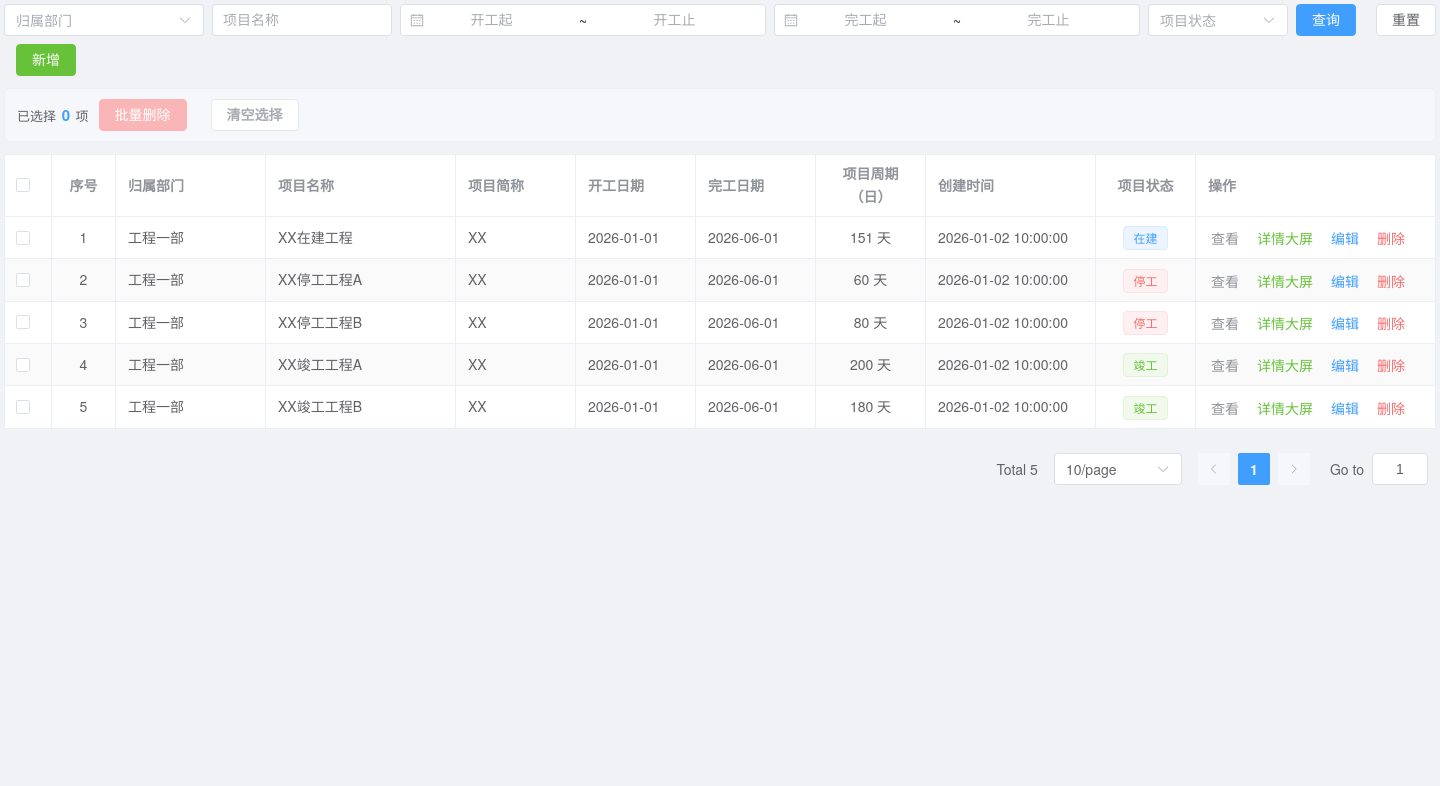
Test: ProjectListView › 点击新增打开弹窗并展示坐标与只读工期字段
The image size is (1440, 786).
Click the button "新增" at (46, 60), box x1=16 y1=44 x2=76 y2=76
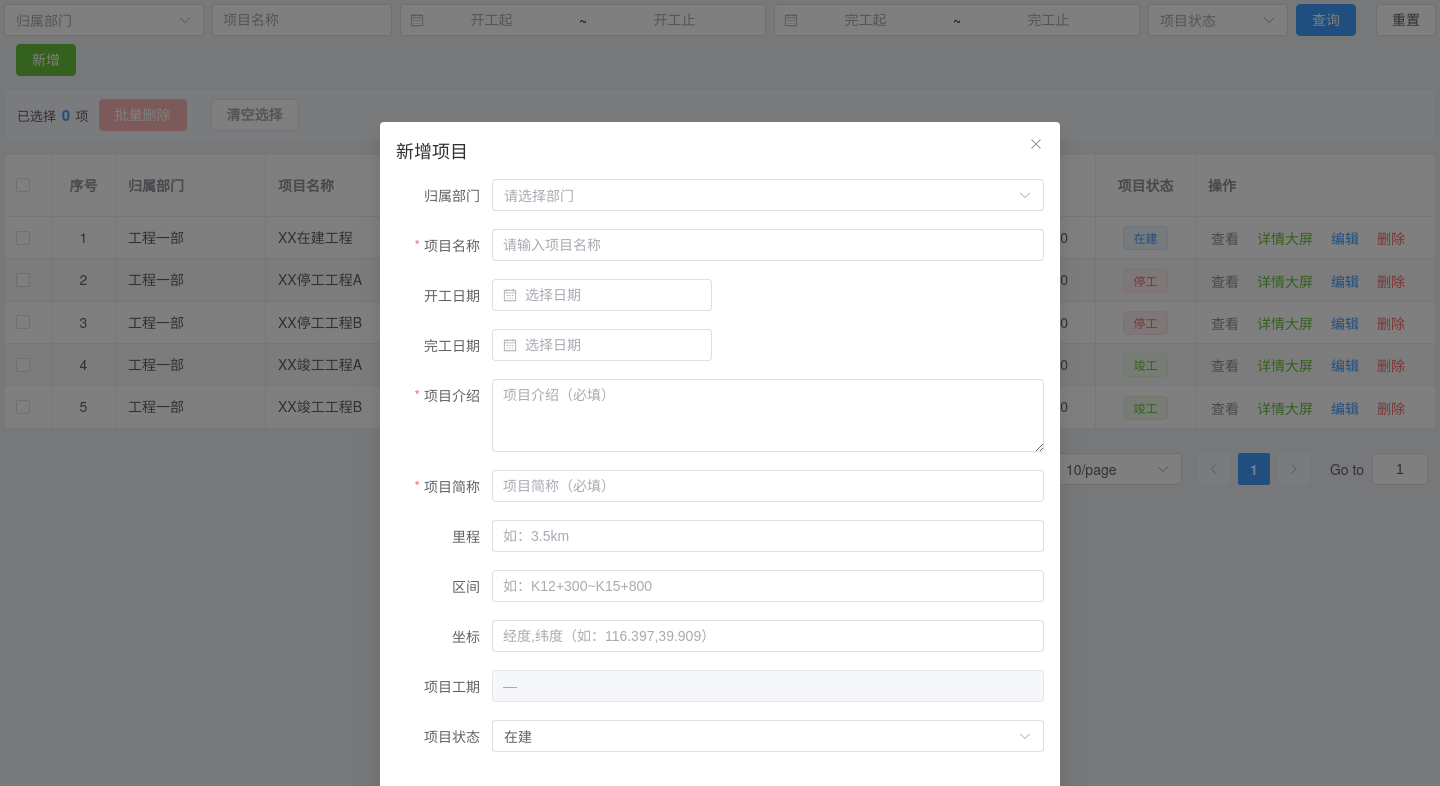
Expected: the text "新增项目" is shown, x1=396 y1=136 x2=468 y2=162
Expected: the text "坐标" is shown, x1=452 y1=626 x2=480 y2=646
Expected: the text "项目工期" is shown, x1=424 y1=676 x2=480 y2=696
